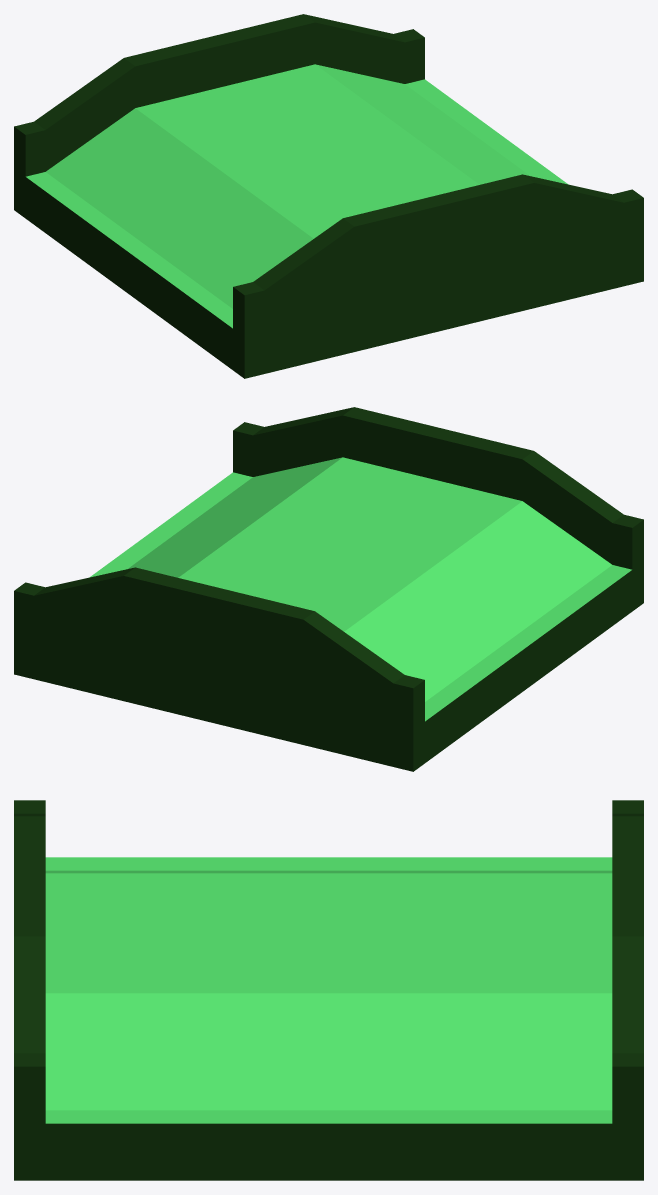
Rendered from MG Plateau.fbx.
3 renders of one model, top to bottom at view 1: azimuth 30°, elevation 25°; view 2: azimuth 150°, elevation 25°; view 3: azimuth 270°, elevation 25°, orthographic. The views are drawn at different scales.
Parts seen in each view (by area): view 1: MG Plateau; view 2: MG Plateau; view 3: MG Plateau.
Part boxes in pixels (<box>): MG Plateau: <box>14,14,643,378</box>; MG Plateau: <box>14,407,643,771</box>; MG Plateau: <box>14,800,643,1180</box>.
Bounding box in the file's own units: 200 × 60 × 200.
